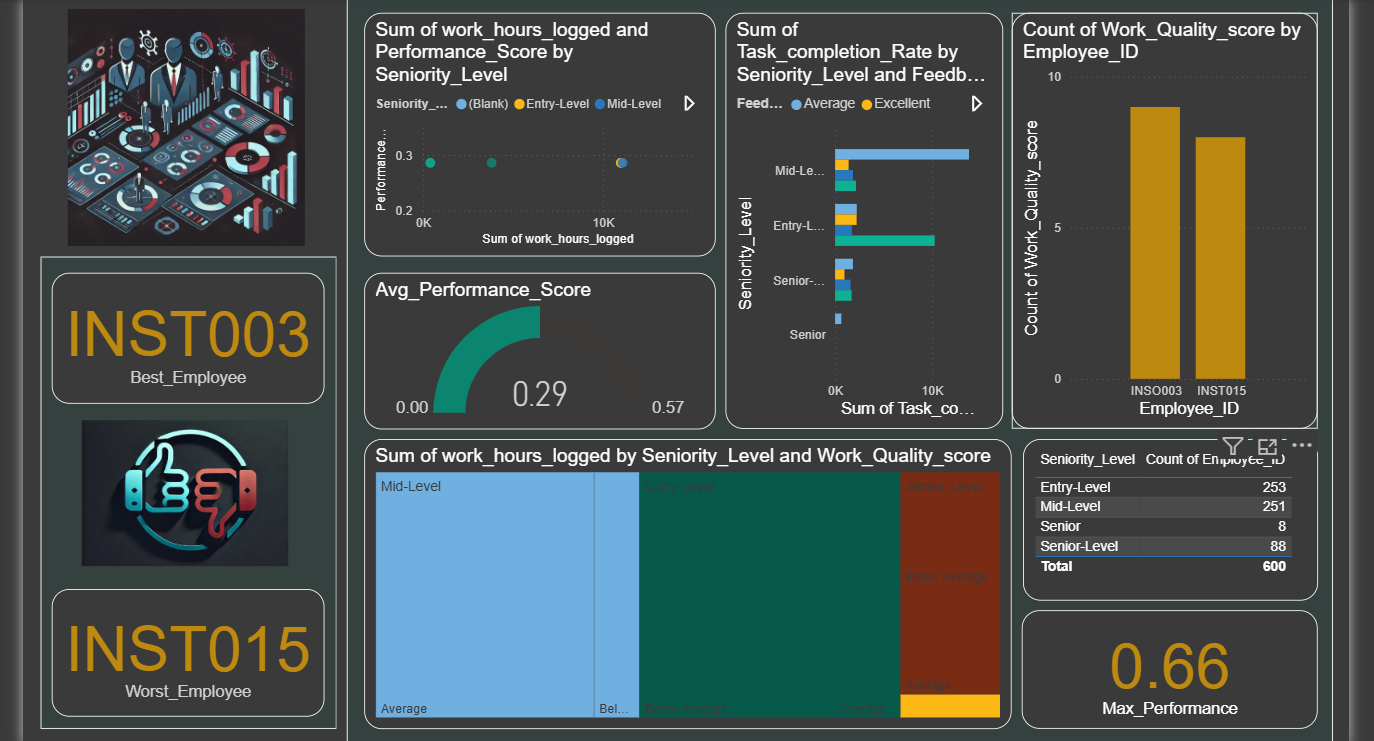

This screenshot's page, from the dashboard's own definition file:
{"tool":"powerbi","page":{"name":"Page 2","canvas":[1280,720],"ordinal":1},"visuals":[{"type":"shape","box":[312.5,0,951.9,720.2],"z":0},{"type":"shape","box":[16.9,248.5,285.9,456],"z":1000},{"type":"scatterChart","fields":{"Y":["Expanded_EMPLOYEE_PERFORMANCE_DATASET.Performance_Score"],"X":["Sum(Expanded_EMPLOYEE_PERFORMANCE_DATASET.work_hours_logged)"],"Series":["Expanded_EMPLOYEE_PERFORMANCE_DATASET.Seniority_Level"]},"box":[329.4,13.3,339,235.3],"z":2000},{"type":"tableEx","fields":{"Values":["Ranked_Employee_Performance.Seniority_Level","CountNonNull(Ranked_Employee_Performance.Employee_ID)"]},"box":[965.2,424.7,284.7,155.6],"z":3000},{"type":"card","fields":{"Values":["Expanded_EMPLOYEE_PERFORMANCE_DATASET.Best_Employee"]},"box":[27.7,264.2,263,126.7],"z":4000},{"type":"card","box":[27.7,569.4,263,123.1],"z":5000},{"type":"gauge","fields":{"Y":["Expanded_EMPLOYEE_PERFORMANCE_DATASET.Avg_Performance_Score"]},"box":[329.4,264.2,339,150.8],"z":6000},{"type":"image","box":[0,401.7,312.5,150.8],"z":7000},{"type":"image","box":[16.9,4.8,282.3,238.9],"z":8000},{"type":"columnChart","fields":{"Category":["Processed_Employee_Performance.Employee_ID"],"Y":["CountNonNull(Processed_Employee_Performance.Work_Quality_score)"]},"box":[954.3,13.3,295.6,401.7],"z":9000},{"type":"treemap","fields":{"Group":["Processed_Employee_Performance.Seniority_Level"],"Details":["Processed_Employee_Performance.Work_Quality_score"],"Values":["Sum(Processed_Employee_Performance.work_hours_logged)"]},"box":[329.4,424.7,624.9,279.9],"z":10000},{"type":"clusteredBarChart","fields":{"Y":["Sum(Processed_Employee_Performance.Task_completion_Rate)"],"Category":["Processed_Employee_Performance.Seniority_Level"],"Series":["Processed_Employee_Performance.Feedback"]},"box":[678,13.3,267.8,401.7],"z":11000},{"type":"card","fields":{"Values":["Expanded_EMPLOYEE_PERFORMANCE_DATASET.Max_Performance"]},"box":[963.9,589.9,285.9,114.6],"z":12000}]}

Visuals, with their boxes in screenshot pixels (x1, y1, x2, y2):
shape: bbox(364, 7, 1329, 738)
shape: bbox(64, 259, 354, 722)
scatterChart - Expanded_EMPLOYEE_PERFORMANCE_DATASET.Performance_Score x Sum(Expanded_EMPLOYEE_PERFORMANCE_DATASET.work_hours_logged): bbox(381, 21, 725, 259)
tableEx - Ranked_Employee_Performance.Seniority_Level x CountNonNull(Ranked_Employee_Performance.Employee_ID): bbox(1026, 438, 1315, 596)
card - Expanded_EMPLOYEE_PERFORMANCE_DATASET.Best_Employee: bbox(75, 275, 341, 404)
card: bbox(75, 585, 341, 710)
gauge - Expanded_EMPLOYEE_PERFORMANCE_DATASET.Avg_Performance_Score: bbox(381, 275, 725, 428)
image: bbox(47, 415, 364, 568)
image: bbox(64, 12, 350, 254)
columnChart - Processed_Employee_Performance.Employee_ID x CountNonNull(Processed_Employee_Performance.Work_Quality_score): bbox(1015, 21, 1315, 428)
treemap - Processed_Employee_Performance.Seniority_Level x Processed_Employee_Performance.Work_Quality_score: bbox(381, 438, 1015, 722)
clusteredBarChart - Sum(Processed_Employee_Performance.Task_completion_Rate) x Processed_Employee_Performance.Seniority_Level: bbox(734, 21, 1006, 428)
card - Expanded_EMPLOYEE_PERFORMANCE_DATASET.Max_Performance: bbox(1024, 606, 1314, 722)
